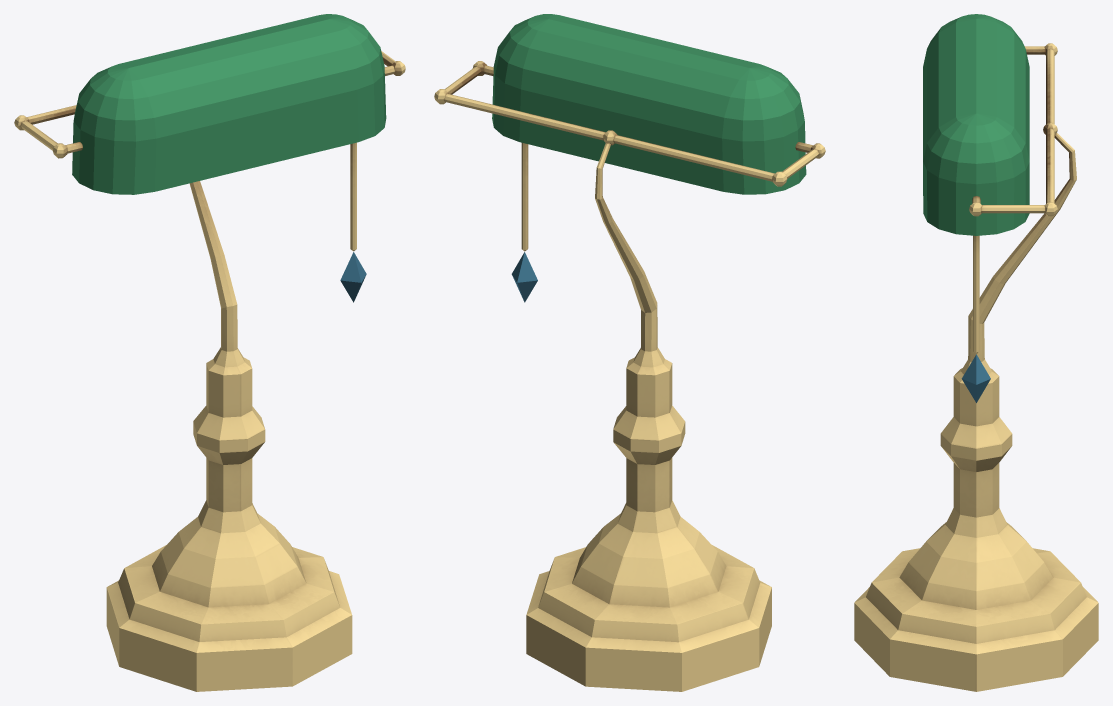
The model's file is banker_lamp.glb.
The picture shows the model from 3 angles, left to right: view 1: azimuth 30°, elevation 25°; view 2: azimuth 150°, elevation 25°; view 3: azimuth 270°, elevation 25°; orthographic projection. The views are drawn at different scales.
Parts seen in each view (by area): view 1: Banker lamp_0; view 2: Banker lamp_0; view 3: Banker lamp_0.
Boxes of the visible parts, <box> form: Banker lamp_0: <box>14,14,405,691</box>; Banker lamp_0: <box>434,14,825,691</box>; Banker lamp_0: <box>854,14,1098,691</box>.
Bounding box in the file's own units: 0.2604 × 0.4251 × 0.1641.
1 material, 1 textured.
